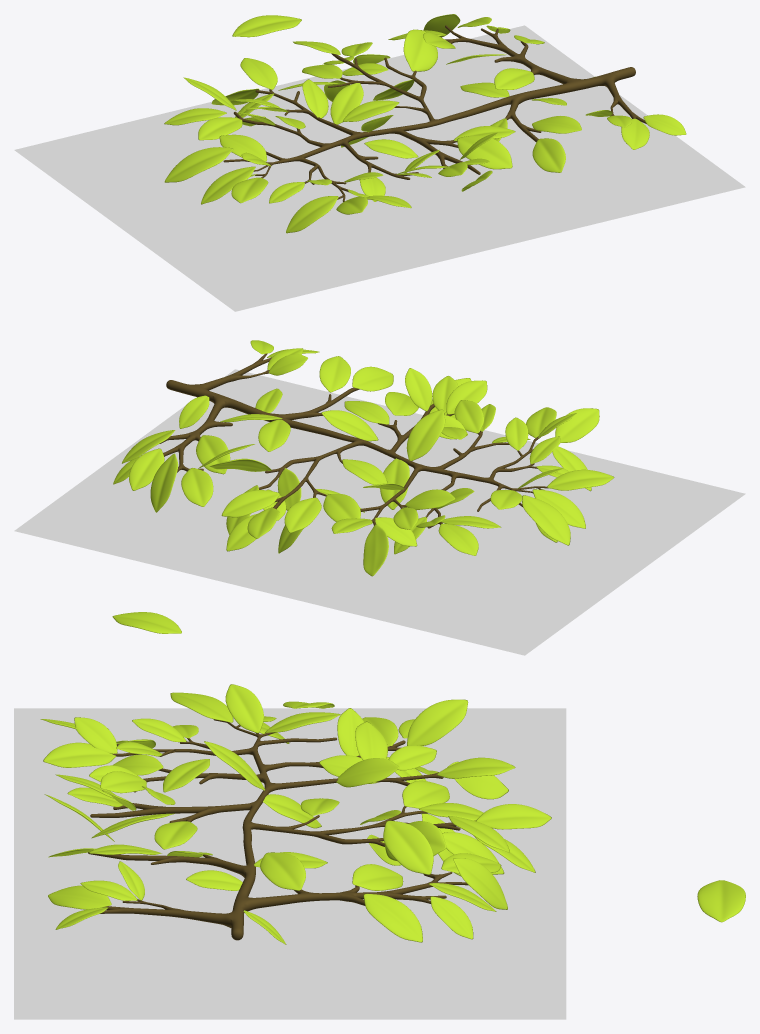
File: Leaves_01_Low.fbx
The picture shows the model from 3 angles, top to bottom: view 1: azimuth 30°, elevation 25°; view 2: azimuth 150°, elevation 25°; view 3: azimuth 270°, elevation 25°; orthographic projection. The views are drawn at different scales.
Visible parts, largest first — view 1: Leaves_Low, Leaves_High, Cube.001; view 2: Leaves_Low, Leaves_High, Cube.001; view 3: Leaves_Low, Leaves_High, Cube.001.
Part boxes in pixels (x1,y1,x2,y2): Leaves_Low: (14,25,745,311); Leaves_High: (164,14,686,233); Cube.001: (232,15,301,37); Leaves_Low: (14,369,745,655); Leaves_High: (113,340,614,576); Cube.001: (112,612,181,633); Leaves_Low: (14,708,566,1019); Leaves_High: (40,684,551,944); Cube.001: (697,880,745,922).
Size of the model in its own units: 1339 by 213 by 1331.
